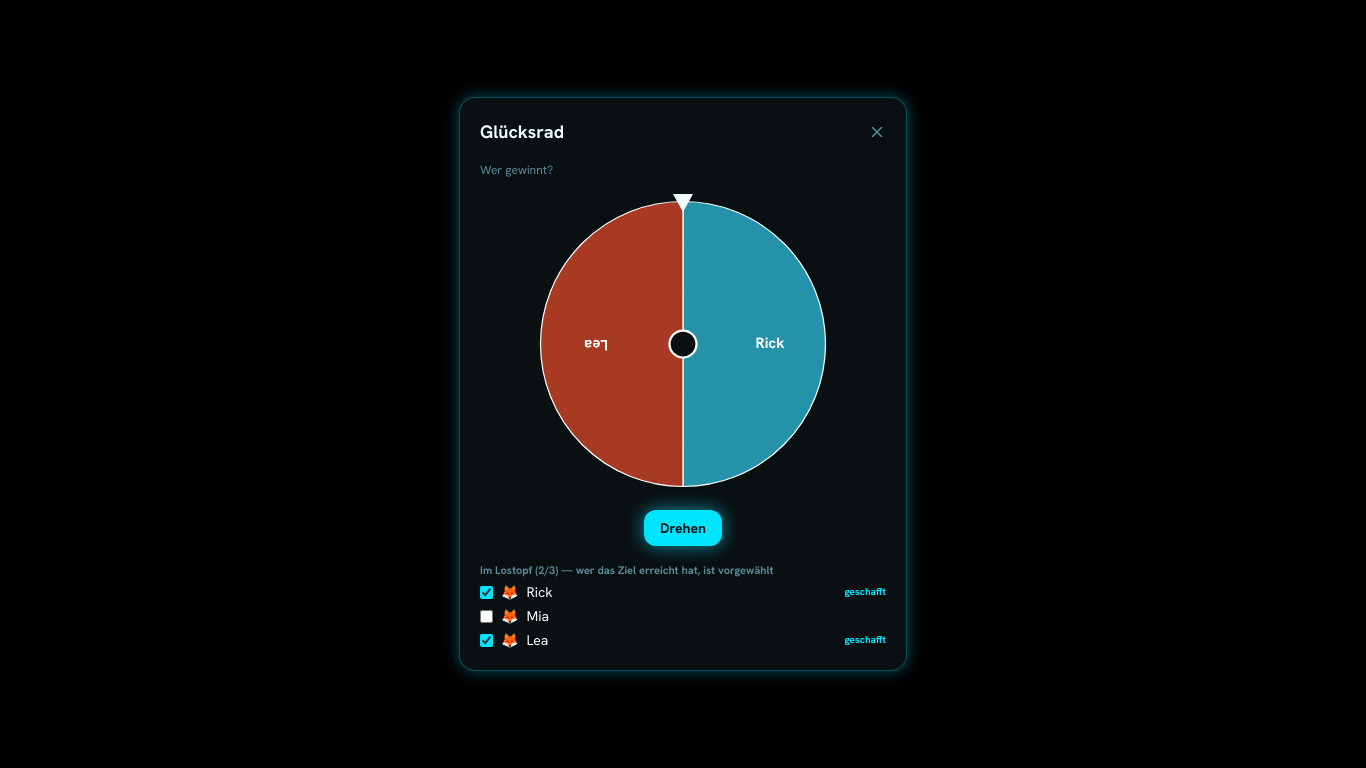
Test: GluecksradDialog › sperrt das Drehen ohne Auswahl
The width and height of the screenshot is (1366, 768).
Click the checkbox labelled "🦊 Rick geschafft" at (486, 592), box [480, 586, 493, 599]
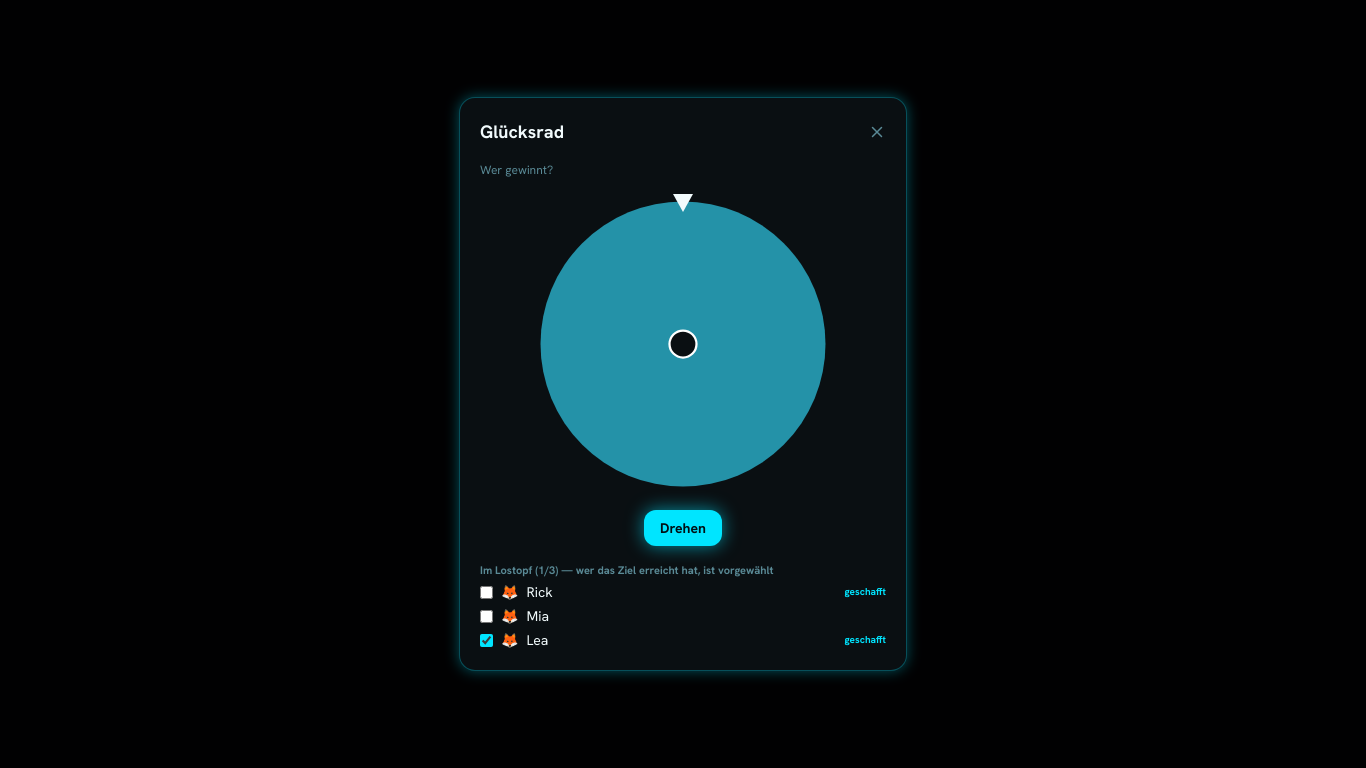
Click the checkbox labelled "🦊 Lea geschafft" at (486, 640), box [480, 634, 493, 647]
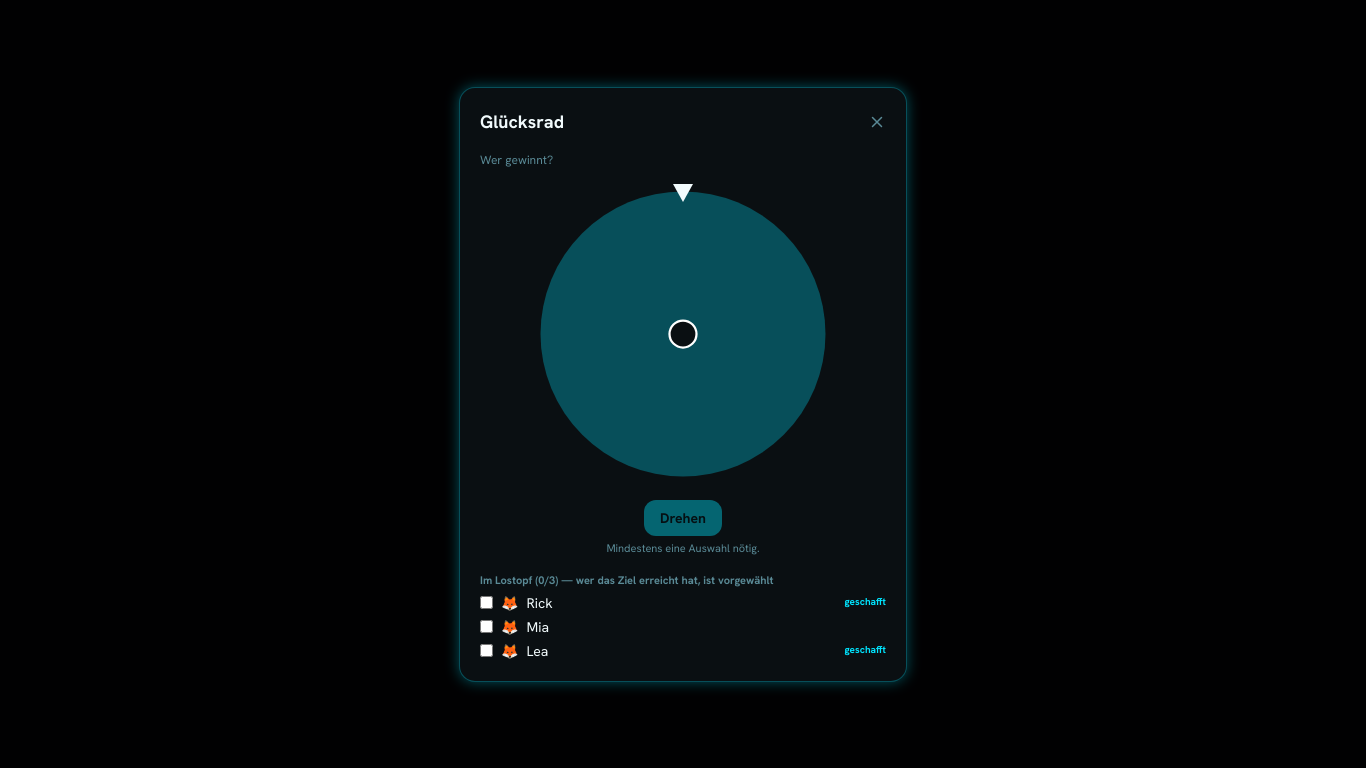
Result: the button "Drehen" is disabled at [644, 500, 722, 536]
